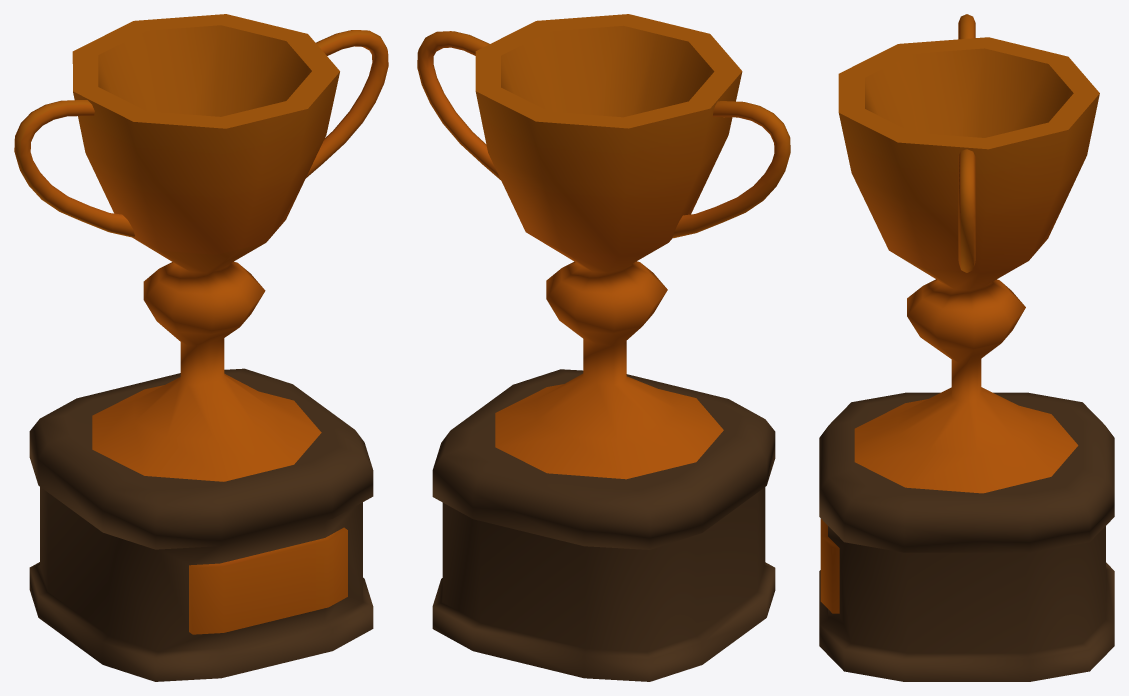
The model's file is TrophyBronze.glb.
3 renders of one model, left to right at view 1: azimuth 30°, elevation 25°; view 2: azimuth 150°, elevation 25°; view 3: azimuth 270°, elevation 25°, orthographic. The views are drawn at different scales.
Parts seen in each view (by area): view 1: TrophyBronze; view 2: TrophyBronze; view 3: TrophyBronze.
Part boxes in pixels (x1,y1,x2,y2): TrophyBronze: (14,14,388,681); TrophyBronze: (417,14,790,681); TrophyBronze: (819,14,1114,681).
Bounding box in the file's own units: 0.6683 × 0.9302 × 0.47.
2 materials, 2 textured.
